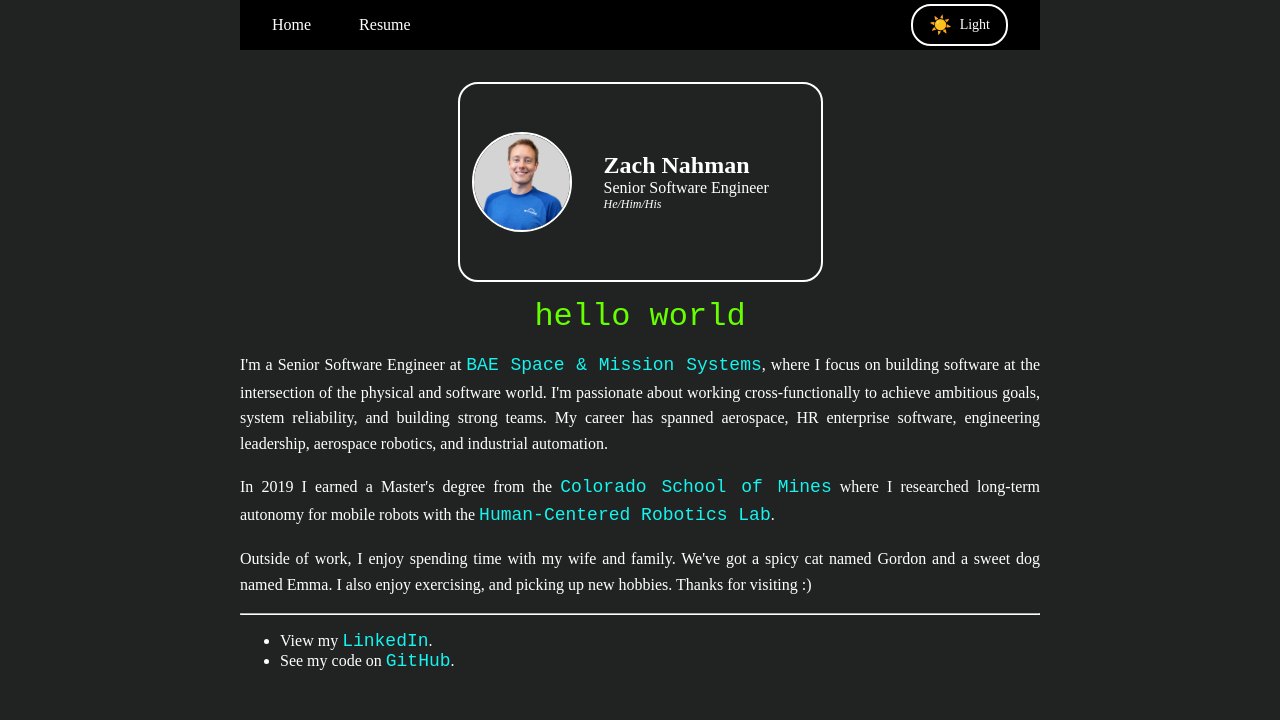
Scenario: Theme Toggle › should switch to light mode when clicked
# Click the toggle button
Click the button with test id "theme-toggle". click: (960, 25)
box: x1=911 y1=4 x2=1008 y2=46
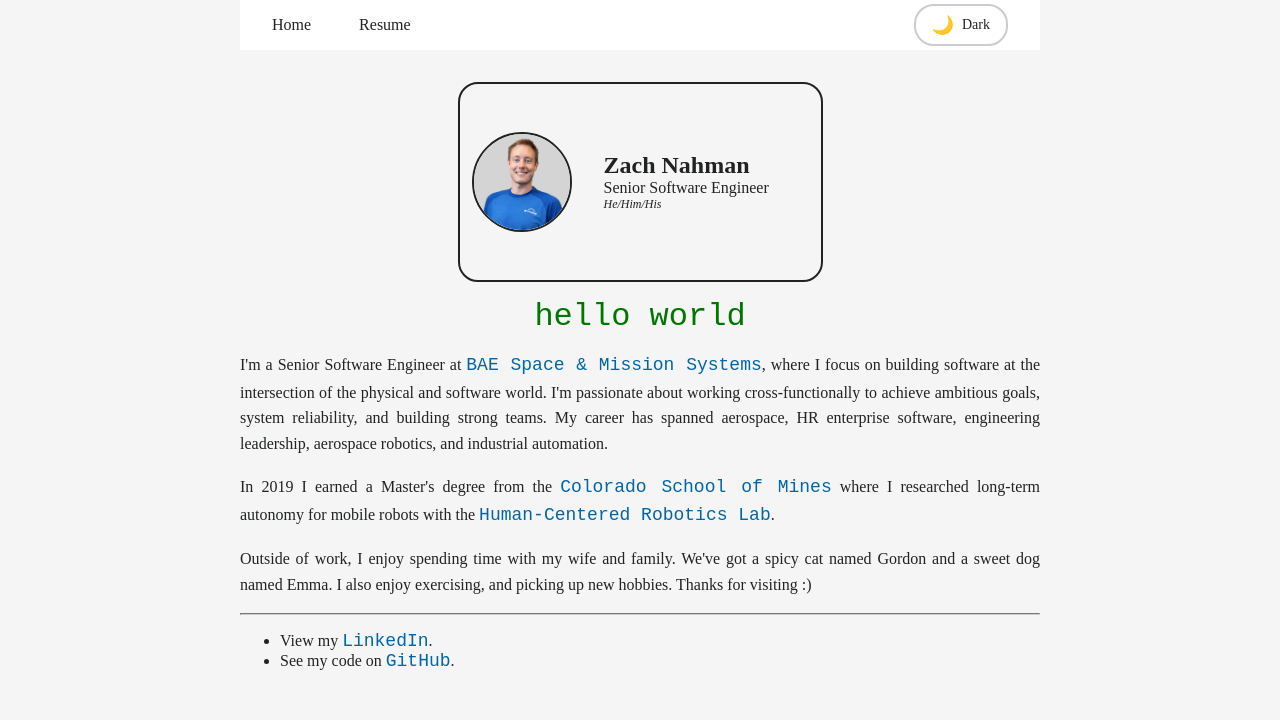
Expected: the text with test id "theme-toggle" reads "Dark", x1=962 y1=17 x2=990 y2=32
Expected: the text with test id "theme-toggle" reads "🌙", x1=932 y1=15 x2=954 y2=35
